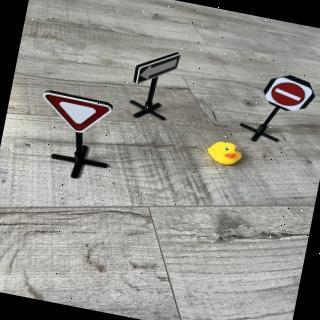duck_regular: (206, 139, 246, 169)
sign_noentry: (261, 72, 316, 117)
sign_oneway_left: (132, 46, 182, 94)
sign_yield: (37, 90, 120, 141)
